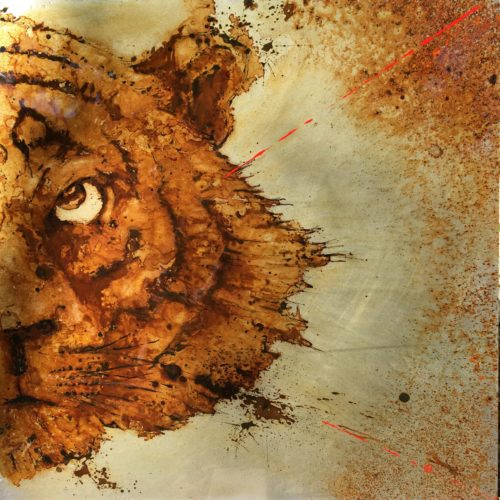rust: (3, 29, 195, 431), (343, 1, 497, 124)
